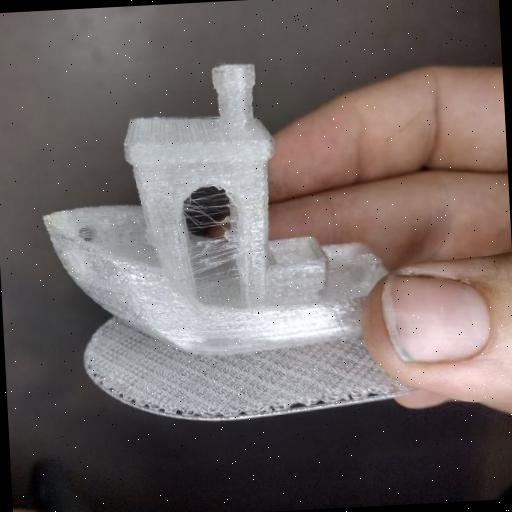stringing: (180, 186, 240, 270)
